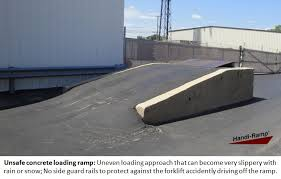Yard Ramp: (63, 62, 254, 123)
